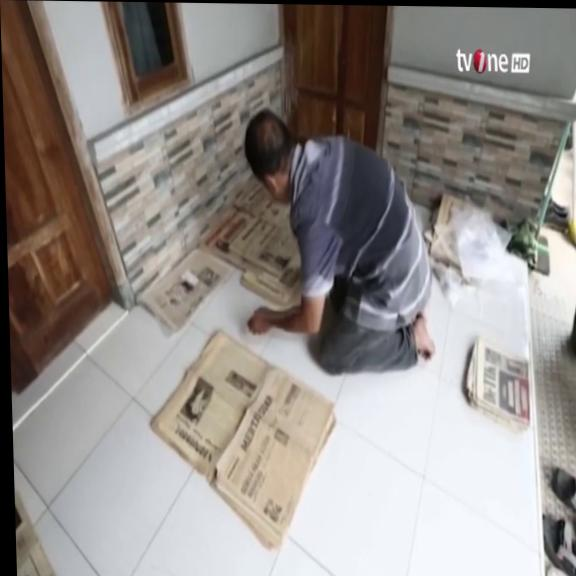Kertas: (214, 367, 336, 549)
